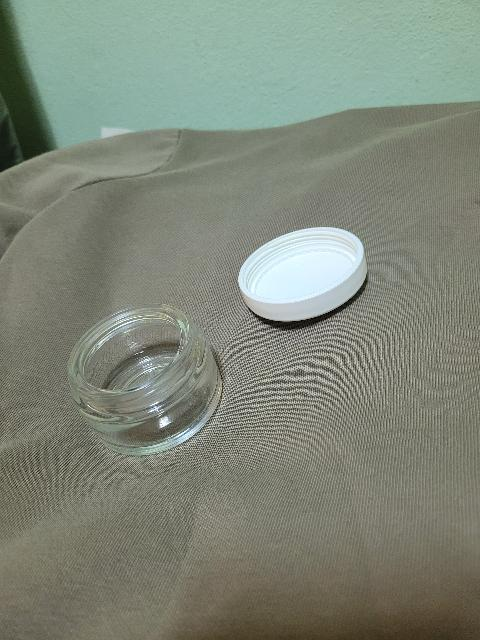Cam: (64, 302, 241, 455)
Plastik: (235, 224, 371, 329)
